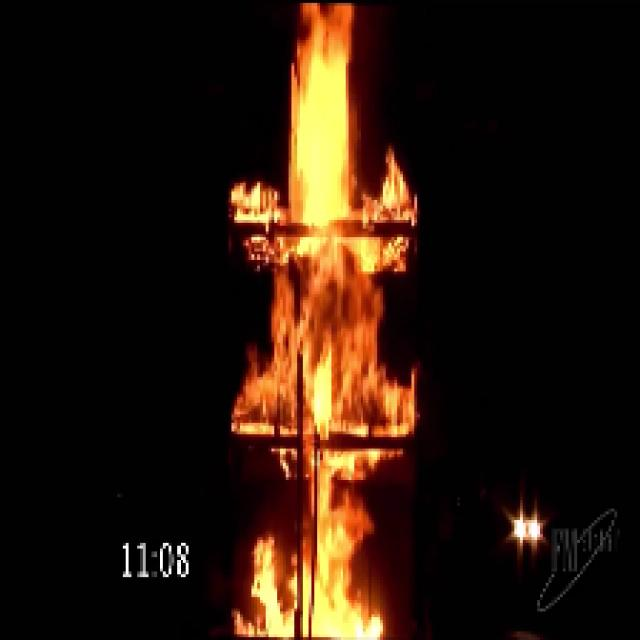fire: (268, 10, 374, 637)
